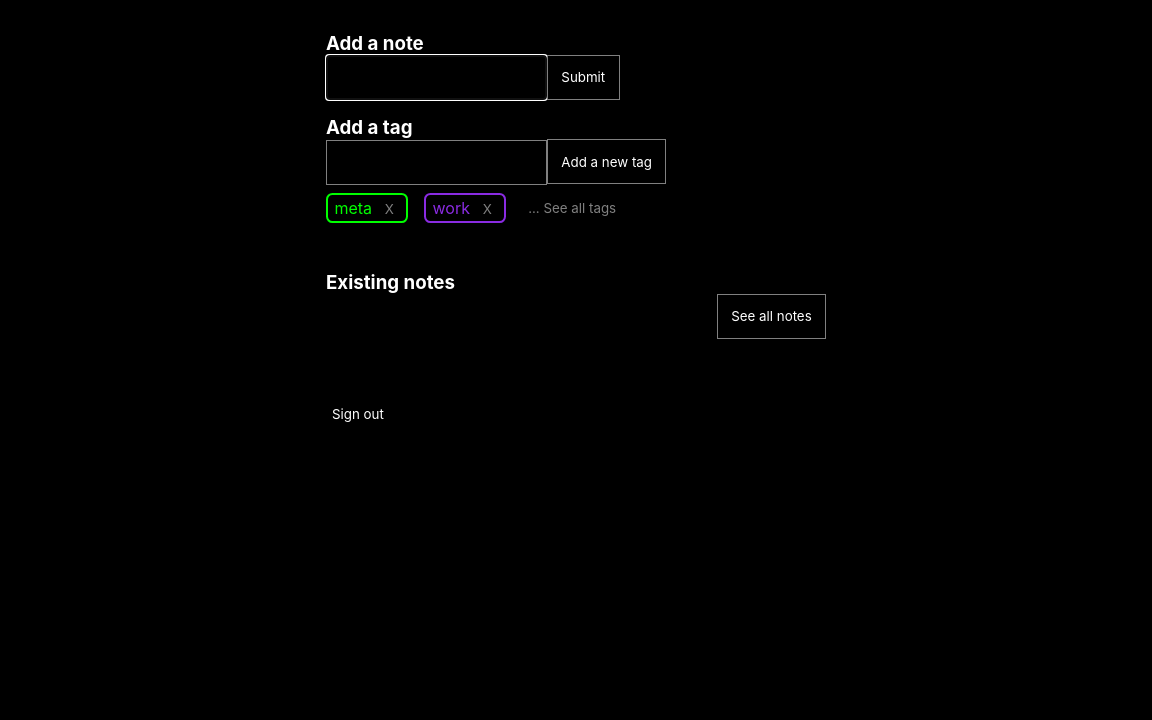
Test case: App › happy tags › tag name is editable
Click the text "meta".
click(353, 208)  # box [334,198,372,218]
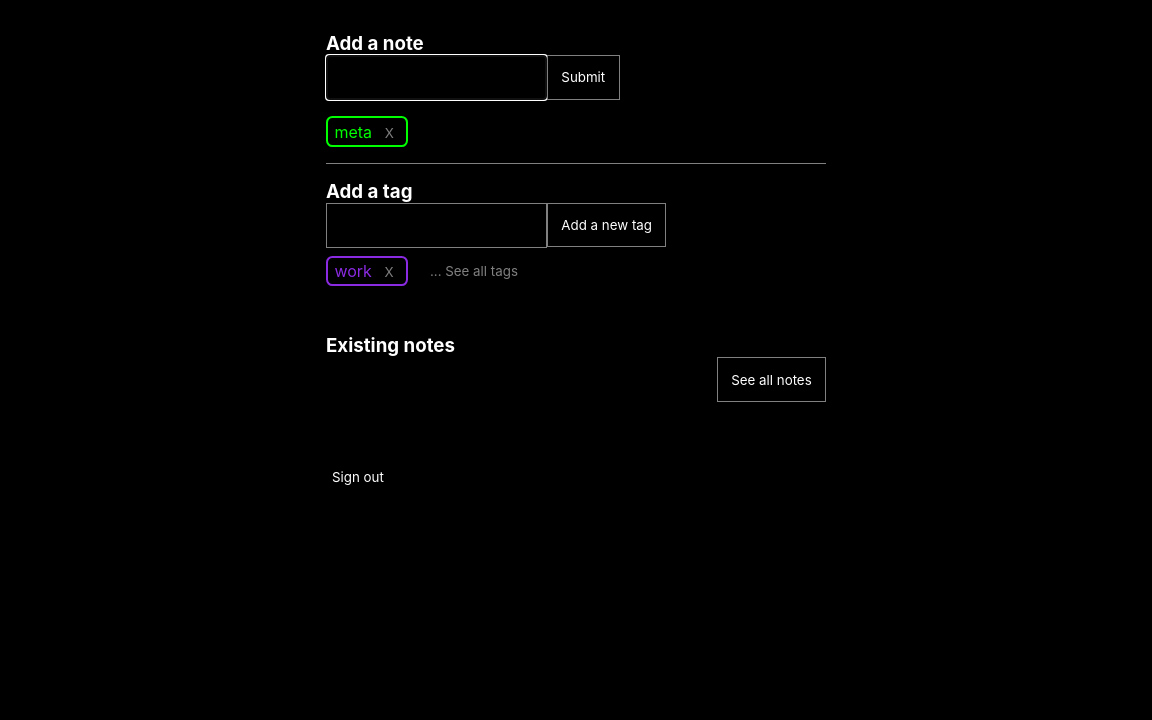
Click the text "meta".
click(353, 132)  # box [334,122,372,142]
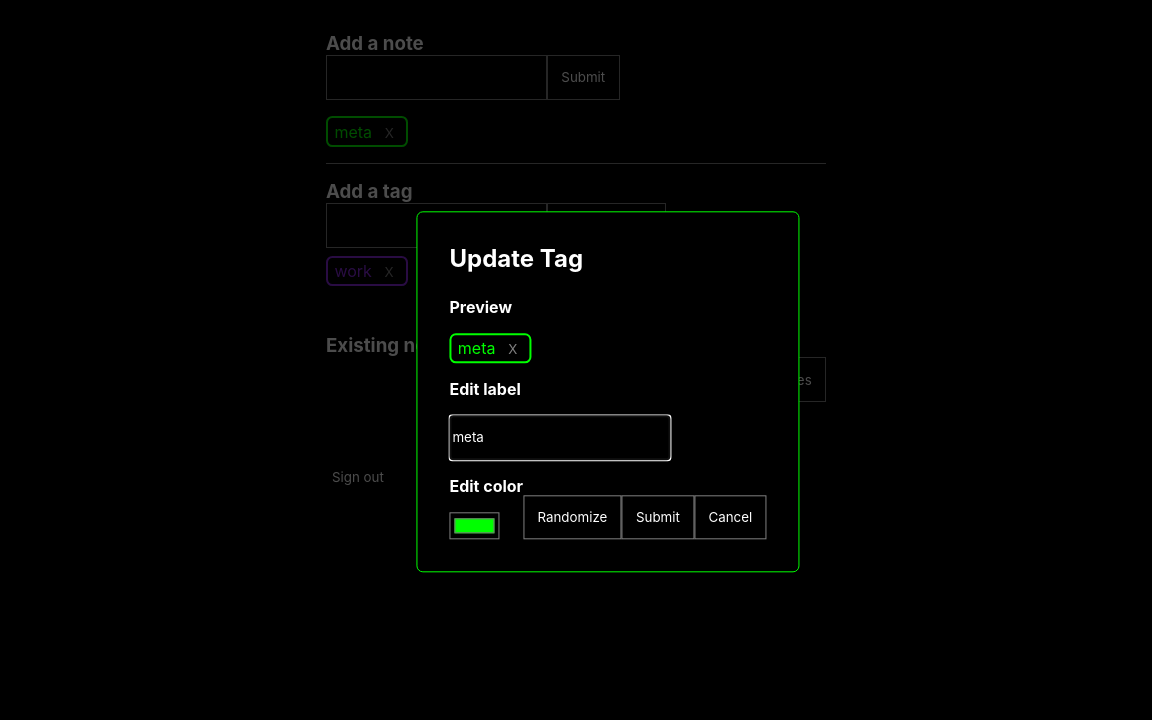
Now the field labelled "Edit label" holds "meta"
Replace the text in the field labelled "Edit label" with "not meta" at coordinates (560, 438), box [449,416,670,461]
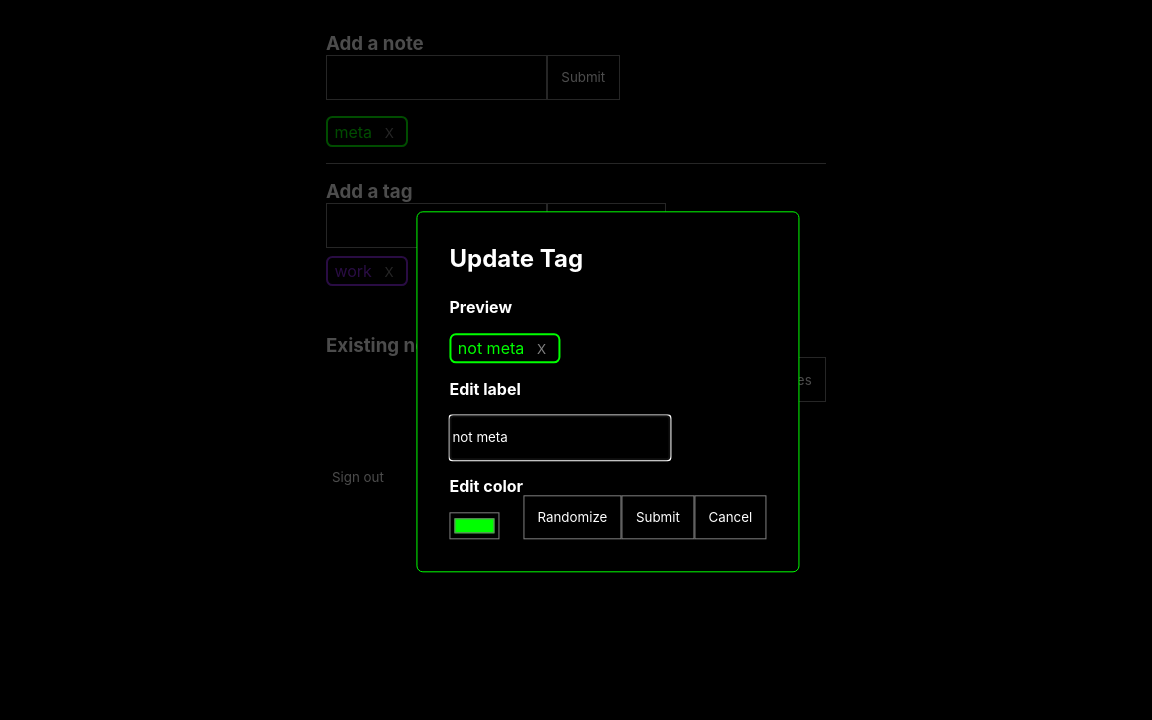
Submit the form named "tag-edit-form", box [449,244,766,540]
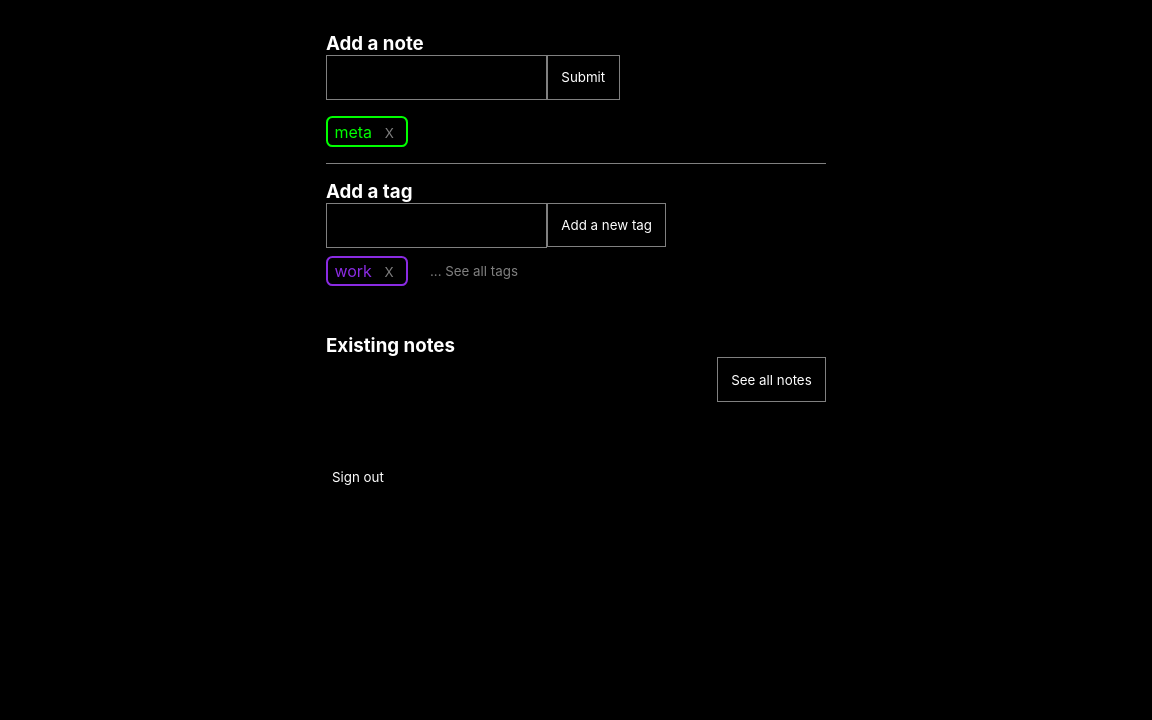
Now the dialog is gone
